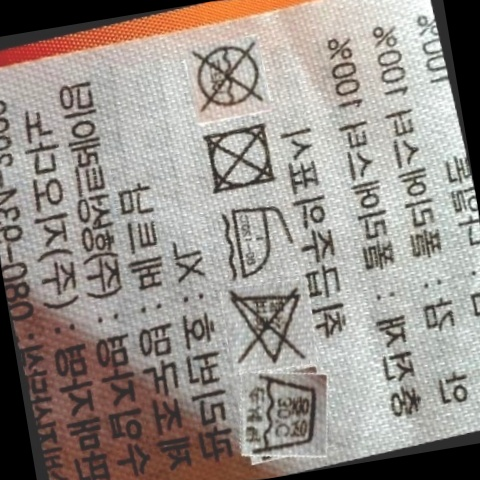DN_dry_clean: (181, 34, 273, 119)
DN_tumble_dry: (194, 116, 283, 200)
hand_wash: (227, 362, 333, 468)
iron_low: (211, 192, 299, 289)
non_chlorine_bleach: (217, 278, 310, 375)
